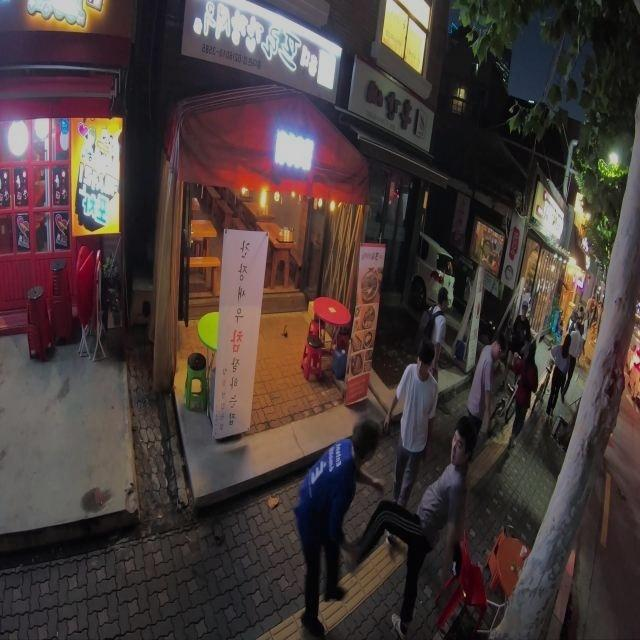fight: (289, 411, 480, 640)
non-fight: (389, 339, 437, 510), (503, 324, 538, 452), (466, 334, 503, 453), (547, 333, 580, 427)
